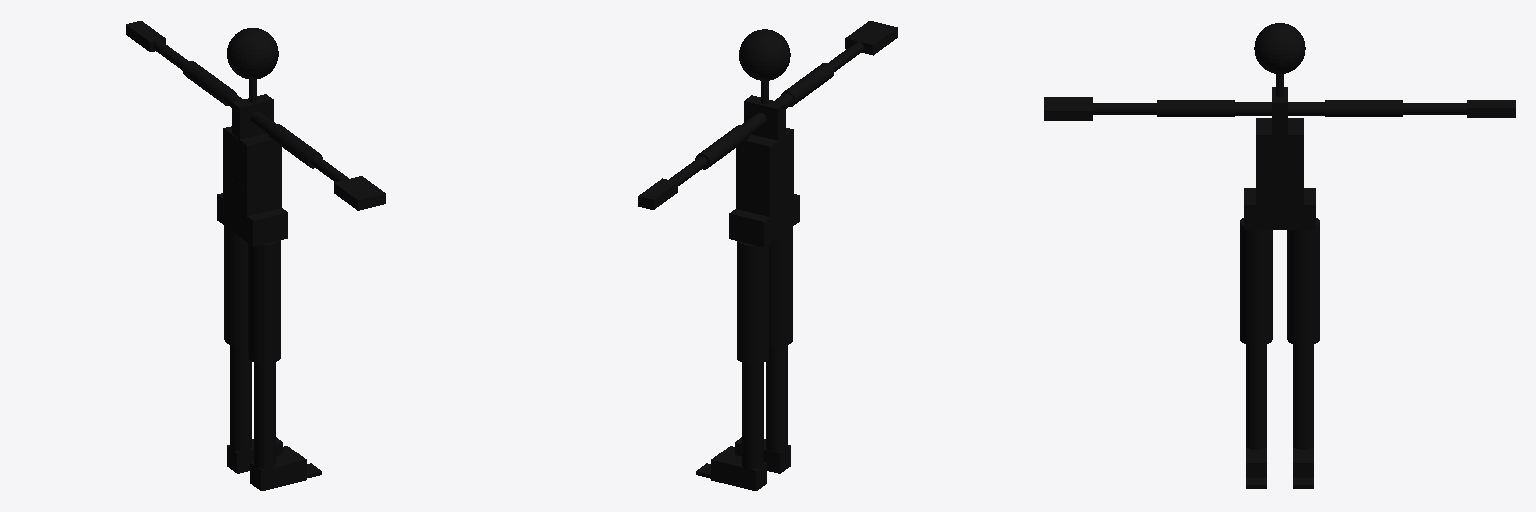
--- What the picture shows (computed from the rendered views, not written in the file) ---
Views: 3 orthographic renders of the robot side by side, from view 1: azimuth 30°, elevation 25°; view 2: azimuth 150°, elevation 25°; view 3: azimuth 270°, elevation 25°.
Model XSensStyleModel_template with 51 links and 50 joints (48 revolute, 2 fixed), rooted at Pelvis, posed every joint at zero.
Visible links, largest first — view 1: RightUpperLeg, LeftUpperLeg, RightLowerLeg, LeftLowerLeg, Head, Pelvis, T12, L5, RightFoot, L3, T8, RightHand (+4 smaller); view 2: LeftUpperLeg, RightUpperLeg, LeftLowerLeg, RightLowerLeg, Head, Pelvis, T12, L5, LeftFoot, L3, T8, RightHand (+4 smaller); view 3: RightUpperLeg, LeftUpperLeg, Pelvis, RightLowerLeg, LeftLowerLeg, Head, T12, RightUpperArm, LeftUpperArm, L5, RightHand, L3 (+6 smaller).
Link boxes in pixels (bbox=[...]): RightUpperLeg: bbox=[248, 240, 280, 363]; LeftUpperLeg: bbox=[224, 226, 247, 345]; RightLowerLeg: bbox=[254, 362, 275, 468]; LeftLowerLeg: bbox=[230, 345, 251, 451]; Head: bbox=[227, 28, 278, 79]; Pelvis: bbox=[217, 193, 287, 246]; T12: bbox=[223, 126, 281, 167]; L5: bbox=[223, 174, 281, 215]; RightFoot: bbox=[250, 452, 306, 490]; L3: bbox=[223, 151, 281, 190]; T8: bbox=[232, 94, 273, 139]; RightHand: bbox=[334, 176, 385, 210]; LeftUpperLeg: bbox=[737, 241, 768, 363]; RightUpperLeg: bbox=[769, 227, 792, 346]; LeftLowerLeg: bbox=[742, 363, 763, 468]; RightLowerLeg: bbox=[766, 345, 787, 451]; Head: bbox=[739, 29, 790, 80]; Pelvis: bbox=[729, 194, 799, 246]; T12: bbox=[736, 128, 793, 168]; L5: bbox=[736, 175, 793, 216]; LeftFoot: bbox=[711, 452, 766, 490]; L3: bbox=[736, 153, 793, 191]; T8: bbox=[744, 95, 785, 140]; RightHand: bbox=[845, 21, 897, 55]; RightUpperLeg: bbox=[1240, 218, 1272, 345]; LeftUpperLeg: bbox=[1287, 218, 1319, 345]; Pelvis: bbox=[1244, 188, 1315, 229]; RightLowerLeg: bbox=[1246, 345, 1266, 449]; LeftLowerLeg: bbox=[1293, 345, 1313, 449]; Head: bbox=[1254, 23, 1305, 73]; T12: bbox=[1256, 118, 1303, 156]; RightUpperArm: bbox=[1157, 100, 1234, 116]; LeftUpperArm: bbox=[1325, 100, 1402, 116]; L5: bbox=[1256, 180, 1303, 204]; RightHand: bbox=[1044, 97, 1092, 120]; L3: bbox=[1256, 157, 1303, 179].
Bounding box of the posed robot: 0.2938 × 1.63 × 1.69 m (x, y, z).
Geometry: primitives only (box / cylinder / sphere), no mesh files.

URDF robot description (XSensStyleModel_template):
<!--URDF MODEL 48 DoFs-->
<robot name="XSensStyleModel_template">
    <material name="color">
        <color rgba="0.1 0.1 0.1 1" />
    </material>
    <!--To open this model with Gazebo replace the null masses, inertias and dimensions of the 'fake links f1 and f2'-->
    <!--LINKS-->
    <!--Link base (1)-->
    <link name="Pelvis">
        <inertial>
            <mass value="4.976" />
            COM origin wrt pHipOrigin
            <origin xyz="0           0    0.049743" rpy="0 0 0" />
            <inertia ixx="0.029678" iyy="0.011854" izz="0.033653" ixy="0" ixz="0" iyz="0" />
        </inertial>
        <visual>
            <!--box origin wrt pHipOrigin-->
            <origin xyz="0           0    0.049743" rpy="0 0 0" />
            <geometry>
                <box size="0.13815     0.24914    0.097469" />
            </geometry>
            <material name="color" />
        </visual>
        <collision>
            <!--box origin wrt pHipOrigin-->
            <origin xyz="0           0    0.049743" rpy="0 0 0" />
            <geometry>
                <box size="0.13815     0.24914    0.097469" />
            </geometry>
        </collision>
    </link>
    <!--Chain from (2) to (7)-->
    <link name="L5_f1">
        <inertial>
            <mass value="0.1" />
            <origin xyz="0 0 0" rpy="0 0 0" />
            <inertia ixx="0.2" iyy="0.2" izz="0.2" ixy="0" ixz="0" iyz="0" />
        </inertial>
    </link>
    <link name="L5">
        <inertial>
            <mass value="6.3444" />
            <!--COM origin wrt jL5S1-->
            <origin xyz="0           0    0.047552" rpy="0 0 0" />
            <inertia ixx="0.018868" iyy="0.014872" izz="0.024177" ixy="0" ixz="0" iyz="0" />
        </inertial>
        <visual>
            <!--box origin origin wrt jL5S1-->
            <origin xyz="0           0    0.047552" rpy="0 0 0" />
            <geometry>
                <box size="0.13815     0.16323    0.095104" />
            </geometry>
            <material name="color" />
        </visual>
        <collision>
            <!--box origin origin wrt jL5S1-->
            <origin xyz="0           0    0.047552" rpy="0 0 0" />
            <geometry>
                <box size="0.13815     0.16323    0.095104" />
            </geometry>
        </collision>
    </link>
    <link name="L3_f1">
        <inertial>
            <mass value="0.1" />
            <origin xyz="0 0 0" rpy="0 0 0" />
            <inertia ixx="0.2" iyy="0.2" izz="0.2" ixy="0" ixz="0" iyz="0" />
        </inertial>
    </link>
    <link name="L3">
        <inertial>
            <mass value="6.3444" />
            <!--COM origin wrt jL4L3-->
            <origin xyz="0           0    0.042958" rpy="0 0 0" />
            <inertia ixx="0.017989" iyy="0.013993" izz="0.024177" ixy="0" ixz="0" iyz="0" />
        </inertial>
        <visual>
            <!--box origin origin wrt jL4L3-->
            <origin xyz="0           0    0.042958" rpy="0 0 0" />
            <geometry>
                <box size="0.13815     0.16323    0.085916" />
            </geometry>
            <material name="color" />
        </visual>
        <collision>
            <!--box origin origin wrt jL4L3-->
            <origin xyz="0           0    0.042958" rpy="0 0 0" />
            <geometry>
                <box size="0.13815     0.16323    0.085916" />
            </geometry>
        </collision>
    </link>
    <link name="T12_f1">
        <inertial>
            <mass value="0.1" />
            <origin xyz="0 0 0" rpy="0 0 0" />
            <inertia ixx="0.2" iyy="0.2" izz="0.2" ixy="0" ixz="0" iyz="0" />
        </inertial>
    </link>
    <link name="T12">
        <inertial>
            <mass value="6.3444" />
            <!--COM origin wrt jL1T12-->
            <origin xyz="0           0    0.042958" rpy="0 0 0" />
            <inertia ixx="0.017989" iyy="0.013993" izz="0.024177" ixy="0" ixz="0" iyz="0" />
        </inertial>
        <visual>
            <!--box origin origin wrt jL1T12-->
            <origin xyz="0           0    0.042958" rpy="0 0 0" />
            <geometry>
                <box size="0.13815     0.16323    0.085916" />
            </geometry>
            <material name="color" />
        </visual>
        <collision>
            <!--box origin origin wrt jL1T12-->
            <origin xyz="0           0    0.042958" rpy="0 0 0" />
            <geometry>
                <box size="0.13815     0.16323    0.085916" />
            </geometry>
        </collision>
    </link>
    <link name="T8_f1">
        <inertial>
            <mass value="0.1" />
            <origin xyz="0 0 0" rpy="0 0 0" />
            <inertia ixx="0.2" iyy="0.2" izz="0.2" ixy="0" ixz="0" iyz="0" />
        </inertial>
    </link>
    <link name="T8_f2">
        <inertial>
            <mass value="0.1" />
            <origin xyz="0 0 0" rpy="0 0 0" />
            <inertia ixx="0.2" iyy="0.2" izz="0.2" ixy="0" ixz="0" iyz="0" />
        </inertial>
    </link>
    <link name="T8">
        <inertial>
            <mass value="2.488" />
            <!--COM origin wrt jT9T8-->
            <origin xyz="0           0    0.059874" rpy="0 0 0" />
            <inertia ixx="0.0035473" iyy="0.0067278" izz="0.0043289" ixy="0" ixz="0" iyz="0" />
        </inertial>
        <visual>
            <!--box origin wrt jT9T8-->
            <origin xyz="0           0    0.059874" rpy="0 0 0" />
            <geometry>
                <box size="0.13457    0.052626     0.11975" />
            </geometry>
            <material name="color" />
        </visual>
        <collision>
            <!--box origin wrt jT9T8-->
            <origin xyz="0           0    0.059874" rpy="0 0 0" />
            <geometry>
                <box size="0.13457    0.052626     0.11975" />
            </geometry>
        </collision>
    </link>
    <link name="Neck_f1">
        <inertial>
            <mass value="0.1" />
            <origin xyz="0 0 0" rpy="0 0 0" />
            <inertia ixx="0.2" iyy="0.2" izz="0.2" ixy="0" ixz="0" iyz="0" />
        </inertial>
    </link>
    <link name="Neck_f2">
        <inertial>
            <mass value="0.1" />
            <origin xyz="0 0 0" rpy="0 0 0" />
            <inertia ixx="0.2" iyy="0.2" izz="0.2" ixy="0" ixz="0" iyz="0" />
        </inertial>
    </link>
    <link name="Neck">
        <inertial>
            <mass value="0.7464" />
            <!--COM origin wrt jT1C7-->
            <origin xyz="0           0    0.044626" rpy="0 0 0" />
            <inertia ixx="0.0006461" iyy="0.0006461" izz="0.00030124" ixy="0" ixz="0" iyz="0" />
        </inertial>
        <visual>
            <!--box origin wrt jT1C7-->
            <origin xyz="0           0    0.044626" rpy="0 0 0" />
            <geometry>
                <cylinder length="0.089252" radius="0.014205" />
            </geometry>
            <material name="color" />
        </visual>
        <collision>
            <!--box origin wrt jT1C7-->
            <origin xyz="0           0    0.044626" rpy="0 0 0" />
            <geometry>
                <cylinder length="0.089252" radius="0.014205" />
            </geometry>
        </collision>
    </link>
    <link name="Head_f1">
        <inertial>
            <mass value="0.1" />
            <origin xyz="0 0 0" rpy="0 0 0" />
            <inertia ixx="0.2" iyy="0.2" izz="0.2" ixy="0" ixz="0" iyz="0" />
        </inertial>
    </link>
    <link name="Head">
        <inertial>
            <mass value="2.2392" />
            <!--COM origin wrt jC1Head-->
            <origin xyz="0           0    0.089005" rpy="0 0 0" />
            <inertia ixx="0.0070955" iyy="0.0070955" izz="0.0070955" ixy="0" ixz="0" iyz="0" />
        </inertial>
        <visual>
            <!--boc origin wrt jC1Head-->
            <origin xyz="0           0    0.089005" rpy="0 0 0" />
            <geometry>
                <sphere radius="0.089005" />
            </geometry>
            <material name="color" />
        </visual>
        <collision>
            <!--box origin wrt jC1Head-->
            <origin xyz="0           0    0.089005" rpy="0 0 0" />
            <geometry>
                <sphere radius="0.089005" />
            </geometry>
        </collision>
    </link>
    <!--Chain from (8) to (11)-->
    <link name="RightShoulder">
        <inertial>
            <mass value="1.9282" />
            <!--COM origin wrt jRightC7Shoulder-->
            <origin xyz="0   -0.065233           0" rpy="0 0 0" />
            <inertia ixx="0.0030029" iyy="0.00053578" izz="0.0030029" ixy="0" ixz="0" iyz="0" />
        </inertial>
        <visual>
            <!--box origin wrt jRightC7Shoulder. RPY rotated of pi/2.-->
            <origin xyz="0   -0.065233           0" rpy="1.5708 0 0" />
            <geometry>
                <cylinder length="0.13047" radius="0.023574" />
            </geometry>
            <material name="color" />
        </visual>
        <collision>
            <!--box origin wrt jRightC7Shoulder. RPY rotated of pi/2.-->
            <origin xyz="0   -0.065233           0" rpy="1.5708 0 0" />
            <geometry>
                <cylinder length="0.13047" radius="0.023574" />
            </geometry>
        </collision>
    </link>
    <link name="RightUpperArm_f1">
        <inertial>
            <mass value="0.1" />
            <origin xyz="0 0 0" rpy="0 0 0" />
            <inertia ixx="0.2" iyy="0.2" izz="0.2" ixy="0" ixz="0" iyz="0" />
        </inertial>
    </link>
    <link name="RightUpperArm_f2">
        <inertial>
            <mass value="0.1" />
            <origin xyz="0 0 0" rpy="0 0 0" />
            <inertia ixx="0.2" iyy="0.2" izz="0.2" ixy="0" ixz="0" iyz="0" />
        </inertial>
    </link>
    <link name="RightUpperArm">
        <inertial>
            <mass value="1.866" />
            <!--COM origin wrt jRightShoulder-->
            <origin xyz="0    -0.13497           0" rpy="0 0 0" />
            <inertia ixx="0.011736" iyy="0.00080917" izz="0.011736" ixy="0" ixz="0" iyz="0" />
        </inertial>
        <visual>
            <!--box origin wrt jRightShoulder. RPY rotated of pi/2.-->
            <origin xyz="0    -0.13497           0" rpy="1.5708 0 0" />
            <geometry>
                <cylinder length="0.26994" radius="0.029449" />
            </geometry>
            <material name="color" />
        </visual>
        <collision>
            <!--box origin wrt jRightShoulder. RPY rotated of pi/2.-->
            <origin xyz="0    -0.13497           0" rpy="1.5708 0 0" />
            <geometry>
                <cylinder length="0.26994" radius="0.029449" />
            </geometry>
        </collision>
    </link>
    <link name="RightForeArm_f1">
        <inertial>
            <mass value="0.1" />
            <origin xyz="0 0 0" rpy="0 0 0" />
            <inertia ixx="0.2" iyy="0.2" izz="0.2" ixy="0" ixz="0" iyz="0" />
        </inertial>
    </link>
    <link name="RightForeArm">
        <inertial>
            <mass value="1.244" />
            <!--COM origin wrt jRightElbow-->
            <origin xyz="0    -0.11124           0" rpy="0 0 0" />
            <inertia ixx="0.0052508" iyy="0.00023975" izz="0.0052508" ixy="0" ixz="0" iyz="0" />
        </inertial>
        <visual>
            <!--box origin wrt jRightElbow. RPY rotated of pi/2.-->
            <origin xyz="0    -0.11124           0" rpy="1.5708 0 0" />
            <geometry>
                <cylinder length="0.22247" radius="0.019633" />
            </geometry>
            <material name="color" />
        </visual>
        <collision>
            <!--box origin wrt jRightElbow. RPY rotated of pi/2.-->
            <origin xyz="0    -0.11124           0" rpy="1.5708 0 0" />
            <geometry>
                <cylinder length="0.22247" radius="0.019633" />
            </geometry>
        </collision>
    </link>
    <link name="RightHand_f1">
        <inertial>
            <mass value="0.1" />
            <origin xyz="0 0 0" rpy="0 0 0" />
            <inertia ixx="0.2" iyy="0.2" izz="0.2" ixy="0" ixz="0" iyz="0" />
        </inertial>
    </link>
    <link name="RightHand">
        <inertial>
            <mass value="0.3732" />
            <!--COM origin wrt jRightWrist-->
            <origin xyz="0   -0.083588           0" rpy="0 0 0" />
            <inertia ixx="0.00091713" iyy="0.00043425" izz="0.0012555" ixy="0" ixz="0" iyz="0" />
        </inertial>
        <visual>
            <!--box origin wrt jRightWrist-->
            <origin xyz="0   -0.083588           0" rpy="0 0 0" />
            <geometry>
                <box size="0.11145     0.16718    0.039266" />
            </geometry>
            <material name="color" />
        </visual>
        <collision>
            <!--box origin wrt jRightWrist-->
            <origin xyz="0   -0.083588           0" rpy="0 0 0" />
            <geometry>
                <box size="0.11145     0.16718    0.039266" />
            </geometry>
        </collision>
    </link>
    <link name="RightHandCOM">
        <inertial>
            <mass value="0.00001" />
            <origin xyz="0 0 0" rpy="0 0 0" />
            <inertia ixx="0.2" iyy="0.2" izz="0.2" ixy="0" ixz="0" iyz="0" />
        </inertial>
        <visual>
            <!--box origin wrt jRightWrist-->
            <origin xyz="0   0           0" rpy="0 0 0" />
            <geometry>
                <box size="0     0    0" />
            </geometry>
            <material name="color" />
        </visual>
    </link>
    <!--Chain from (12) to (15)-->
    <link name="LeftShoulder">
        <inertial>
            <mass value="1.9282" />
            <!--COM origin wrt jLeftC7Shoulder-->
            <origin xyz="0    0.065233           0" rpy="0 0 0" />
            <inertia ixx="0.0030029" iyy="0.00053578" izz="0.0030029" ixy="0" ixz="0" iyz="0" />
        </inertial>
        <visual>
            <!--box origin wrt jLeftC7Shoulder. RPY rotated of pi/2.-->
            <origin xyz="0    0.065233           0" rpy="1.5708 0 0" />
            <geometry>
                <cylinder length="0.13047" radius="0.023574" />
            </geometry>
            <material name="color" />
        </visual>
        <collision>
            <!--box origin wrt jLeftC7Shoulder. RPY rotated of pi/2.-->
            <origin xyz="0    0.065233           0" rpy="1.5708 0 0" />
            <geometry>
                <cylinder length="0.13047" radius="0.023574" />
            </geometry>
        </collision>
    </link>
    <link name="LeftUpperArm_f1">
        <inertial>
            <mass value="0.1" />
            <origin xyz="0 0 0" rpy="0 0 0" />
            <inertia ixx="0.2" iyy="0.2" izz="0.2" ixy="0" ixz="0" iyz="0" />
        </inertial>
    </link>
    <link name="LeftUpperArm_f2">
        <inertial>
            <mass value="0.1" />
            <origin xyz="0 0 0" rpy="0 0 0" />
            <inertia ixx="0.2" iyy="0.2" izz="0.2" ixy="0" ixz="0" iyz="0" />
        </inertial>
    </link>
    <link name="LeftUpperArm">
        <inertial>
            <mass value="1.866" />
            <!--COM origin wrt jLeftShoulder-->
            <origin xyz="0     0.13497           0" rpy="0 0 0" />
            <inertia ixx="0.011736" iyy="0.00080917" izz="0.011736" ixy="0" ixz="0" iyz="0" />
        </inertial>
        <visual>
            <!--box origin wrt jLeftShoulder. RPY rotated of pi/2.-->
            <origin xyz="0     0.13497           0" rpy="1.5708 0 0" />
            <geometry>
                <cylinder length="0.26994" radius="0.029449" />
            </geometry>
            <material name="color" />
        </visual>
        <collision>
            <!--box origin wrt jLeftShoulder. RPY rotated of pi/2.-->
            <origin xyz="0     0.13497           0" rpy="1.5708 0 0" />
            <geometry>
                <cylinder length="0.26994" radius="0.029449" />
            </geometry>
        </collision>
    </link>
    <link name="LeftForeArm_f1">
        <inertial>
            <mass value="0.1" />
            <origin xyz="0 0 0" rpy="0 0 0" />
            <inertia ixx="0.2" iyy="0.2" izz="0.2" ixy="0" ixz="0" iyz="0" />
        </inertial>
    </link>
    <link name="LeftForeArm">
        <inertial>
            <mass value="1.244" />
            <!--COM origin wrt jLeftElbow-->
            <origin xyz="0     0.11124           0" rpy="0 0 0" />
            <inertia ixx="0.0052508" iyy="0.00023975" izz="0.0052508" ixy="0" ixz="0" iyz="0" />
        </inertial>
        <visual>
            <!--box origin wrt jLeftElbow. RPY rotated of pi/2.-->
            <origin xyz="0     0.11124           0" rpy="1.5708 0 0" />
            <geometry>
                <cylinder length="0.22247" radius="0.019633" />
            </geometry>
            <material name="color" />
        </visual>
        <collision>
            <!--box origin wrt jLeftElbow. RPY rotated of pi/2.-->
            <origin xyz="0     0.11124           0" rpy="1.5708 0 0" />
            <geometry>
                <cylinder length="0.22247" radius="0.019633" />
            </geometry>
        </collision>
    </link>
    <link name="LeftHand_f1">
        <inertial>
            <mass value="0.1" />
            <origin xyz="0 0 0" rpy="0 0 0" />
            <inertia ixx="0.2" iyy="0.2" izz="0.2" ixy="0" ixz="0" iyz="0" />
        </inertial>
    </link>
    <link name="LeftHand">
        <inertial>
            <mass value="0.3732" />
            <!--COM origin wrt jLeftWrist-->
            <origin xyz="0    0.083588           0" rpy="0 0 0" />
            <inertia ixx="0.00091713" iyy="0.00043425" izz="0.0012555" ixy="0" ixz="0" iyz="0" />
        </inertial>
        <visual>
            <!--COM origin wrt jLeftWrist-->
            <origin xyz="0    0.083588           0" rpy="0 0 0" />
            <geometry>
                <!-- <box size="0.11145     0.16718    0.039266" /> -->
                <box size="0.06145     0.16718    0.039266" />
            </geometry>
            <material name="color" />
        </visual>
        <collision>
            <!--COM origin wrt jLeftWrist-->
            <origin xyz="0    0.083588           0" rpy="0 0 0" />
            <geometry>
                <!-- <box size="0.11145     0.16718    0.039266" /> -->
                <box size="0.06145     0.16718    0.039266" />
            </geometry>
        </collision>
    </link>
    <link name="LeftHandCOM">
        <inertial>
            <mass value="0.00001" />
            <origin xyz="0 0 0" rpy="0 0 0" />
            <inertia ixx="0.2" iyy="0.2" izz="0.2" ixy="0" ixz="0" iyz="0" />
        </inertial>
        <visual>
            <!--COM origin wrt jLeftWrist-->
            <origin xyz="0    0           0" rpy="0 0 0" />
            <geometry>
                <box size="0     0    0" />
            </geometry>
            <material name="color" />
        </visual>
    </link>
    <!--Chain from (16) to (19)-->
    <link name="RightUpperLeg_f1">
        <inertial>
            <mass value="0.1" />
            <origin xyz="0 0 0" rpy="0 0 0" />
            <inertia ixx="0.2" iyy="0.2" izz="0.2" ixy="0" ixz="0" iyz="0" />
        </inertial>
    </link>
    <link name="RightUpperLeg_f2">
        <inertial>
            <mass value="0.1" />
            <origin xyz="0 0 0" rpy="0 0 0" />
            <inertia ixx="0.2" iyy="0.2" izz="0.2" ixy="0" ixz="0" iyz="0" />
        </inertial>
    </link>
    <link name="RightUpperLeg">
        <inertial>
            <mass value="7.775" />
            <!--COM origin wrt jRightHip-->
            <origin xyz="0           0    -0.22449" rpy="0 0 0" />
            <inertia ixx="0.13681" iyy="0.13681" izz="0.01241" ixy="0" ixz="0" iyz="0" />
        </inertial>
        <visual>
            <!--box origin wrt jRightHip-->
            <origin xyz="0           0    -0.22449" rpy="0 0 0" />
            <geometry>
                <cylinder length="0.44898" radius="0.0565" />
            </geometry>
            <material name="color" />
        </visual>
        <collision>
            <!--box origin wrt jRightHip-->
            <origin xyz="0           0    -0.22449" rpy="0 0 0" />
            <geometry>
                <cylinder length="0.44898" radius="0.0565" />
            </geometry>
        </collision>
    </link>
    <link name="RightLowerLeg_f1">
        <inertial>
            <mass value="0.1" />
            <origin xyz="0 0 0" rpy="0 0 0" />
            <inertia ixx="0.2" iyy="0.2" izz="0.2" ixy="0" ixz="0" iyz="0" />
        </inertial>
    </link>
    <link name="RightLowerLeg">
        <inertial>
            <mass value="2.2703" />
            <!--COM origin wrt jRightKnee-->
            <origin xyz="0           0    -0.20304" rpy="0 0 0" />
            <inertia ixx="0.031992" iyy="0.031992" izz="0.0015867" ixy="0" ixz="0" iyz="0" />
        </inertial>
        <visual>
            <!--box origin wrt jRightKnee-->
            <origin xyz="0           0    -0.20304" rpy="0 0 0" />
            <geometry>
                <cylinder length="0.40608" radius="0.037388" />
            </geometry>
            <material name="color" />
        </visual>
        <collision>
            <!--box origin wrt jRightKnee-->
            <origin xyz="0           0    -0.20304" rpy="0 0 0" />
            <geometry>
                <cylinder length="0.40608" radius="0.037388" />
            </geometry>
        </collision>
    </link>
    <link name="RightFoot_f1">
        <inertial>
            <mass value="0.1" />
            <origin xyz="0 0 0" rpy="0 0 0" />
            <inertia ixx="0.2" iyy="0.2" izz="0.2" ixy="0" ixz="0" iyz="0" />
        </inertial>
    </link>
    <link name="RightFoot_f2">
        <inertial>
            <mass value="0.1" />
            <origin xyz="0 0 0" rpy="0 0 0" />
            <inertia ixx="0.2" iyy="0.2" izz="0.2" ixy="0" ixz="0" iyz="0" />
        </inertial>
    </link>
    <link name="RightFoot">
        <inertial>
            <mass value="0.8086" />
            <!--COM origin wrt jRightAnkle-->
            <origin xyz="0.054652           0   -0.039254" rpy="0 0 0" />
            <inertia ixx="0.00079209" iyy="0.0025944" izz="0.0025558" ixy="0" ixz="0" iyz="0" />
        </inertial>
        <visual>
            <!--box origin wrt jRightAnkle-->
            <origin xyz="0.054652           0   -0.039254" rpy="0 0 0" />
            <geometry>
                <box size="0.17983    0.074775    0.078509" />
            </geometry>
            <material name="color" />
        </visual>
        <collision>
            <!--box origin wrt jRightAnkle-->
            <origin xyz="0.054652           0   -0.039254" rpy="0 0 0" />
            <geometry>
                <box size="0.17983    0.074775    0.078509" />
            </geometry>
        </collision>
    </link>
    <link name="RightToe">
        <inertial>
            <mass value="0.0933" />
            <!--COM origin wrt jRightBallFoot-->
            <origin xyz="0.030086           0           0" rpy="0 0 0" />
            <inertia ixx="4.5038e-05" iyy="2.9717e-05" izz="7.1624e-05" ixy="0" ixz="0" iyz="0" />
        </inertial>
        <visual>
            <!--box origin wrt jRightBallFoot-->
            <origin xyz="0.030086           0           0" rpy="0 0 0" />
            <geometry>
                <box size="0.060173    0.074775    0.014191" />
            </geometry>
            <material name="color" />
        </visual>
        <collision>
            <!--box origin wrt jRightBallFoot-->
            <origin xyz="0.030086           0           0" rpy="0 0 0" />
            <geometry>
                <box size="0.060173    0.074775    0.014191" />
            </geometry>
        </collision>
    </link>
    <!--Chain from (20) to (23)-->
    <link name="LeftUpperLeg_f1">
        <inertial>
            <mass value="0.1" />
            <origin xyz="0 0 0" rpy="0 0 0" />
            <inertia ixx="0.2" iyy="0.2" izz="0.2" ixy="0" ixz="0" iyz="0" />
        </inertial>
    </link>
    <link name="LeftUpperLeg_f2">
        <inertial>
            <mass value="0.1" />
            <origin xyz="0 0 0" rpy="0 0 0" />
            <inertia ixx="0.2" iyy="0.2" izz="0.2" ixy="0" ixz="0" iyz="0" />
        </inertial>
    </link>
    <link name="LeftUpperLeg">
        <inertial>
            <mass value="7.775" />
            <!--COM origin wrt jLeftHip-->
            <origin xyz="0           0    -0.22449" rpy="0 0 0" />
            <inertia ixx="0.13681" iyy="0.13681" izz="0.01241" ixy="0" ixz="0" iyz="0" />
        </inertial>
        <visual>
            <!--box origin wrt jLeftHip-->
            <origin xyz="0           0    -0.22449" rpy="0 0 0" />
            <geometry>
                <cylinder length="0.44898" radius="0.0565" />
            </geometry>
            <material name="color" />
        </visual>
        <collision>
            <!--box origin wrt jLeftHip-->
            <origin xyz="0           0    -0.22449" rpy="0 0 0" />
            <geometry>
                <cylinder length="0.44898" radius="0.0565" />
            </geometry>
        </collision>
    </link>
    <link name="LeftLowerLeg_f1">
        <inertial>
            <mass value="0.1" />
            <origin xyz="0 0 0" rpy="0 0 0" />
            <inertia ixx="0.2" iyy="0.2" izz="0.2" ixy="0" ixz="0" iyz="0" />
        </inertial>
    </link>
    <link name="LeftLowerLeg">
        <inertial>
            <mass value="2.2703" />
            <!--COM origin wrt jLeftKnee-->
            <origin xyz="0           0    -0.20304" rpy="0 0 0" />
            <inertia ixx="0.031992" iyy="0.031992" izz="0.0015867" ixy="0" ixz="0" iyz="0" />
        </inertial>
        <visual>
            <!--box origin wrt jLeftKnee-->
            <origin xyz="0           0    -0.20304" rpy="0 0 0" />
            <geometry>
                <cylinder length="0.40608" radius="0.037388" />
            </geometry>
            <material name="color" />
        </visual>
        <collision>
            <!--box origin wrt jLeftKnee-->
            <origin xyz="0           0    -0.20304" rpy="0 0 0" />
            <geometry>
                <cylinder length="0.40608" radius="0.037388" />
            </geometry>
        </collision>
    </link>
    <link name="LeftFoot_f1">
        <inertial>
            <mass value="0.1" />
            <origin xyz="0 0 0" rpy="0 0 0" />
            <inertia ixx="0.2" iyy="0.2" izz="0.2" ixy="0" ixz="0" iyz="0" />
        </inertial>
    </link>
    <link name="LeftFoot_f2">
        <inertial>
            <mass value="0.1" />
            <origin xyz="0 0 0" rpy="0 0 0" />
            <inertia ixx="0.2" iyy="0.2" izz="0.2" ixy="0" ixz="0" iyz="0" />
        </inertial>
    </link>
    <link name="LeftFoot">
        <inertial>
            <mass value="0.8086" />
            <!--COM origin wrt jLeftAnkle-->
            <origin xyz="0.054652           0   -0.039254" rpy="0 0 0" />
            <inertia ixx="0.00079209" iyy="0.0025944" izz="0.0025558" ixy="0" ixz="0" iyz="0" />
        </inertial>
        <visual>
            <!--box origin wrt jLeftAnkle-->
            <origin xyz="0.054652           0   -0.039254" rpy="0 0 0" />
            <geometry>
                <box size="0.17983    0.074775    0.078509" />
            </geometry>
            <material name="color" />
        </visual>
        <collision>
            <!--box origin wrt jLeftAnkle-->
            <origin xyz="0.054652           0   -0.039254" rpy="0 0 0" />
            <geometry>
                <box size="0.17983    0.074775    0.078509" />
            </geometry>
        </collision>
    </link>
    <link name="LeftToe">
        <inertial>
            <mass value="0.0933" />
            <!--COM origin wrt jLeftBallFoot-->
            <origin xyz="0.030086           0           0" rpy="0 0 0" />
            <inertia ixx="4.5038e-05" iyy="2.9717e-05" izz="7.1624e-05" ixy="0" ixz="0" iyz="0" />
        </inertial>
        <visual>
            <!--box origin wrt jLeftBallFoot-->
            <origin xyz="0.030086           0           0" rpy="0 0 0" />
            <geometry>
                <box size="0.060173    0.074775    0.014191" />
            </geometry>
            <material name="color" />
        </visual>
        <collision>
            <!--box origin wrt jLeftBallFoot-->
            <origin xyz="0.030086           0           0" rpy="0 0 0" />
            <geometry>
                <box size="0.060173    0.074775    0.014191" />
            </geometry>
        </collision>
    </link>
    <!--JOINTS-->
    <!--Chain from (2) to (7)-->
    <joint name="jL5S1_rotx" type="revolute">
        <origin xyz="-0.000206           0    0.098478" rpy="0 0 0" />
        <parent link="Pelvis" />
        <child link="L5_f1" />
        <dynamics damping="0.1" friction="0.0" />
        <limit effort="30" velocity="1.0" lower="-0.610865" upper="0.610865" />
        <axis xyz="1 0 0" />
    </joint>
    <joint name="jL5S1_roty" type="revolute">
        <origin xyz="0 0 0" rpy="0 0 0" />
        <parent link="L5_f1" />
        <child link="L5" />
        <dynamics damping="0.1" friction="0.0" />
        <limit effort="30" velocity="1.0" lower="-0.523599" upper="1.309" />
        <axis xyz="0 1 0" />
    </joint>
    <joint name="jL4L3_rotx" type="revolute">
        <origin xyz="0.000374           0    0.095104" rpy="0 0 0" />
        <parent link="L5" />
        <child link="L3_f1" />
        <dynamics damping="0.1" friction="0.0" />
        <limit effort="30" velocity="1.0" lower="-0.610865" upper="0.610865" />
        <axis xyz="1 0 0" />
    </joint>
    <joint name="jL4L3_roty" type="revolute">
        <origin xyz="0 0 0" rpy="0 0 0" />
        <parent link="L3_f1" />
        <child link="L3" />
        <dynamics damping="0.1" friction="0.0" />
        <limit effort="30" velocity="1.0" lower="-0.523599" upper="1.309" />
        <axis xyz="0 1 0" />
    </joint>
    <joint name="jL1T12_rotx" type="revolute">
        <origin xyz="0           0    0.085916" rpy="0 0 0" />
        <parent link="L3" />
        <child link="T12_f1" />
        <dynamics damping="0.1" friction="0.0" />
        <limit effort="30" velocity="1.0" lower="-0.610865" upper="0.610865" />
        <axis xyz="1 0 0" />
    </joint>
    <joint name="jL1T12_roty" type="revolute">
        <origin xyz="0 0 0" rpy="0 0 0" />
        <parent link="T12_f1" />
        <child link="T12" />
        <dynamics damping="0.1" friction="0.0" />
        <limit effort="30" velocity="1.0" lower="-0.523599" upper="1.309" />
        <axis xyz="0 1 0" />
    </joint>
    <joint name="jT9T8_rotx" type="revolute">
        <origin xyz="0           0    0.085916" rpy="0 0 0" />
        <parent link="T12" />
        <child link="T8_f1" />
        <dynamics damping="0.1" friction="0.0" />
        <limit effort="30" velocity="1.0" lower="-0.349066" upper="0.349066" />
        <axis xyz="1 0 0" />
    </joint>
    <joint name="jT9T8_roty" type="revolute">
        <origin xyz="0 0 0" rpy="0 0 0" />
        <parent link="T8_f1" />
        <child link="T8_f2" />
        <dynamics damping="0.1" friction="0.0" />
        <limit effort="30" velocity="1.0" lower="-0.261799" upper="0.698132" />
        <axis xyz="0 1 0" />
    </joint>
    <joint name="jT9T8_rotz" type="revolute">
        <origin xyz="0 0 0" rpy="0 0 0" />
        <parent link="T8_f2" />
        <child link="T8" />
        <dynamics damping="0.1" friction="0.0" />
        <limit effort="30" velocity="1.0" lower="-0.610865" upper="0.610865" />
        <axis xyz="0 0 1" />
    </joint>
    <joint name="jT1C7_rotx" type="revolute">
        <origin xyz="0           0     0.11975" rpy="0 0 0" />
        <parent link="T8" />
        <child link="Neck_f1" />
        <dynamics damping="0.1" friction="0.0" />
        <limit effort="30" velocity="1.0" lower="-0.610865" upper="0.610865" />
        <axis xyz="1 0 0" />
    </joint>
    <joint name="jT1C7_roty" type="revolute">
        <origin xyz="0 0 0" rpy="0 0 0" />
        <parent link="Neck_f1" />
        <child link="Neck_f2" />
        <dynamics damping="0.1" friction="0.0" />
        <limit effort="30" velocity="1.0" lower="-0.959931" upper="1.5708" />
        <axis xyz="0 1 0" />
    </joint>
    <joint name="jT1C7_rotz" type="revolute">
        <origin xyz="0 0 0" rpy="0 0 0" />
        <parent link="Neck_f2" />
        <child link="Neck" />
        <dynamics damping="0.1" friction="0.0" />
        <limit effort="30" velocity="1.0" lower="-1.22173" upper="1.22173" />
        <axis xyz="0 0 1" />
    </joint>
    <joint name="jC1Head_rotx" type="revolute">
        <origin xyz="0.000152           0    0.089252" rpy="0 0 0" />
        <parent link="Neck" />
        <child link="Head_f1" />
        <dynamics damping="0.1" friction="0.0" />
        <limit effort="30" velocity="1.0" lower="-0.610865" upper="0.610865" />
        <axis xyz="1 0 0" />
    </joint>
    <joint name="jC1Head_roty" type="revolute">
        <origin xyz="0 0 0" rpy="0 0 0" />
        <parent link="Head_f1" />
        <child link="Head" />
        <dynamics damping="0.1" friction="0.0" />
        <limit effort="30" velocity="1.0" lower="-0.436332" upper="0.174533" />
        <axis xyz="0 1 0" />
    </joint>
    <!--Chain from (8) to (11)-->
    <joint name="jRightC7Shoulder_rotx" type="revolute">
        <origin xyz="0   -0.026313    0.067052" rpy="0 0 0" />
        <parent link="T8" />
        <child link="RightShoulder" />
        <dynamics damping="0.1" friction="0.0" />
        <limit effort="30" velocity="1.0" lower="-0.785398" upper="0.0872665" />
        <axis xyz="1 0 0" />
    </joint>
    <joint name="jRightShoulder_rotx" type="revolute">
        <origin xyz="0    -0.13047           0" rpy="0 0 0" />
        <parent link="RightShoulder" />
        <child link="RightUpperArm_f1" />
        <dynamics damping="0.1" friction="0.0" />
        <limit effort="30" velocity="1.0" lower="-2.35619" upper="1.5708" />
        <axis xyz="1 0 0" />
    </joint>
    <joint name="jRightShoulder_roty" type="revolute">
        <origin xyz="0 0 0" rpy="0 0 0" />
        <parent link="RightUpperArm_f1" />
        <child link="RightUpperArm_f2" />
        <dynamics damping="0.1" friction="0.0" />
        <limit effort="30" velocity="1.0" lower="-1.5708" upper="1.5708" />
        <axis xyz="0 1 0" />
    </joint>
    <joint name="jRightShoulder_rotz" type="revolute">
        <origin xyz="0 0 0" rpy="0 0 0" />
        <parent link="RightUpperArm_f2" />
        <child link="RightUpperArm" />
        <dynamics damping="0.1" friction="0.0" />
        <limit effort="30" velocity="1.0" lower="-0.785398" upper="3.14159" />
        <axis xyz="0 0 1" />
    </joint>
    <joint name="jRightElbow_roty" type="revolute">
        <origin xyz="0    -0.26994           0" rpy="0 0 0" />
        <parent link="RightUpperArm" />
        <child link="RightForeArm_f1" />
        <dynamics damping="0.1" friction="0.0" />
        <limit effort="30" velocity="1.0" lower="-1.5708" upper="1.48353" />
        <axis xyz="0 1 0" />
    </joint>
    <joint name="jRightElbow_rotz" type="revolute">
        <origin xyz="0 0 0" rpy="0 0 0" />
        <parent link="RightForeArm_f1" />
        <child link="RightForeArm" />
        <dynamics damping="0.1" friction="0.0" />
        <limit effort="30" velocity="1.0" lower="0" upper="2.53073" />
        <axis xyz="0 0 1" />
    </joint>
    <joint name="jRightWrist_rotx" type="revolute">
        <origin xyz="7.7e-05    -0.22247           0" rpy="0 0 0" />
        <parent link="RightForeArm" />
        <child link="RightHand_f1" />
        <dynamics damping="0.1" friction="0.0" />
        <limit effort="30" velocity="1.0" lower="-0.872665" upper="1.0472" />
        <axis xyz="1 0 0" />
    </joint>
    <joint name="jRightWrist_rotz" type="revolute">
        <origin xyz="0 0 0" rpy="0 0 0" />
        <parent link="RightHand_f1" />
        <child link="RightHand" />
        <dynamics damping="0.1" friction="0.0" />
        <limit effort="30" velocity="1.0" lower="-0.523599" upper="0.349066" />
        <axis xyz="0 0 1" />
    </joint>
    <joint name="jRightHandCOM" type="fixed">
        <origin xyz="0 -0.096206 0" rpy="0 0 0" />
        <parent link="RightHand" />
        <child link="RightHandCOM" />
        <axis xyz="0 0 0" />
    </joint>
    <!--Chain from (12) to (15)-->
    <joint name="jLeftC7Shoulder_rotx" type="revolute">
        <origin xyz="0    0.026313    0.067052" rpy="0 0 0" />
        <parent link="T8" />
        <child link="LeftShoulder" />
        <dynamics damping="0.1" friction="0.0" />
        <limit effort="30" velocity="1.0" lower="-0.0872665" upper="0.785398" />
        <axis xyz="1 0 0" />
    </joint>
    <joint name="jLeftShoulder_rotx" type="revolute">
        <origin xyz="0     0.13047           0" rpy="0 0 0" />
        <parent link="LeftShoulder" />
        <child link="LeftUpperArm_f1" />
        <dynamics damping="0.1" friction="0.0" />
        <limit effort="30" velocity="1.0" lower="-1.5708" upper="2.35619" />
        <axis xyz="1 0 0" />
    </joint>
    <joint name="jLeftShoulder_roty" type="revolute">
        <origin xyz="0 0 0" rpy="0 0 0" />
        <parent link="LeftUpperArm_f1" />
        <child link="LeftUpperArm_f2" />
        <dynamics damping="0.1" friction="0.0" />
        <limit effort="30" velocity="1.0" lower="-1.5708" upper="1.5708" />
        <axis xyz="0 1 0" />
    </joint>
    <joint name="jLeftShoulder_rotz" type="revolute">
        <origin xyz="0 0 0" rpy="0 0 0" />
        <parent link="LeftUpperArm_f2" />
        <child link="LeftUpperArm" />
        <dynamics damping="0.1" friction="0.0" />
        <limit effort="30" velocity="1.0" lower="-3.14159" upper="0.785398" />
        <axis xyz="0 0 1" />
    </joint>
    <joint name="jLeftElbow_roty" type="revolute">
        <origin xyz="0     0.26994           0" rpy="0 0 0" />
        <parent link="LeftUpperArm" />
        <child link="LeftForeArm_f1" />
        <dynamics damping="0.1" friction="0.0" />
        <limit effort="30" velocity="1.0" lower="-1.5708" upper="1.48353" />
        <axis xyz="0 1 0" />
    </joint>
    <joint name="jLeftElbow_rotz" type="revolute">
        <origin xyz="0 0 0" rpy="0 0 0" />
        <parent link="LeftForeArm_f1" />
        <child link="LeftForeArm" />
        <dynamics damping="0.1" friction="0.0" />
        <limit effort="30" velocity="1.0" lower="-2.53073" upper="0" />
        <axis xyz="0 0 1" />
    </joint>
    <joint name="jLeftWrist_rotx" type="revolute">
        <origin xyz="7.7e-05     0.22247           0" rpy="0 0 0" />
        <parent link="LeftForeArm" />
        <child link="LeftHand_f1" />
        <dynamics damping="0.1" friction="0.0" />
        <limit effort="30" velocity="1.0" lower="-1.0472" upper="0.872665" />
        <axis xyz="1 0 0" />
    </joint>
    <joint name="jLeftWrist_rotz" type="revolute">
        <origin xyz="0 0 0" rpy="0 0 0" />
        <parent link="LeftHand_f1" />
        <child link="LeftHand" />
        <dynamics damping="0.1" friction="0.0" />
        <limit effort="30" velocity="1.0" lower="-0.349066" upper="0.523599" />
        <axis xyz="0 0 1" />
    </joint>
    <joint name="jLeftHandCOM" type="fixed">
        <origin xyz="0 0.096206 0" rpy="0 0 0" />
        <parent link="LeftHand" />
        <child link="LeftHandCOM" />
        <axis xyz="0 0 0" />
    </joint>
    <!--Chain from (16) to (19)-->
    <joint name="jRightHip_rotx" type="revolute">
        <origin xyz="0.000103   -0.081614    0.001009" rpy="0 0 0" />
        <parent link="Pelvis" />
        <child link="RightUpperLeg_f1" />
        <dynamics damping="0.1" friction="0.0" />
        <limit effort="30" velocity="1.0" lower="-0.785398" upper="0.523599" />
        <axis xyz="1 0 0" />
    </joint>
    <joint name="jRightHip_roty" type="revolute">
        <origin xyz="0 0 0" rpy="0 0 0" />
        <parent link="RightUpperLeg_f1" />
        <child link="RightUpperLeg_f2" />
        <dynamics damping="0.1" friction="0.0" />
        <limit effort="30" velocity="1.0" lower="-2.0944" upper="0.261799" />
        <axis xyz="0 1 0" />
    </joint>
    <joint name="jRightHip_rotz" type="revolute">
        <origin xyz="0 0 0" rpy="0 0 0" />
        <parent link="RightUpperLeg_f2" />
        <child link="RightUpperLeg" />
        <dynamics damping="0.1" friction="0.0" />
        <limit effort="30" velocity="1.0" lower="-0.785398" upper="0.785398" />
        <axis xyz="0 0 1" />
    </joint>
    <joint name="jRightKnee_roty" type="revolute">
        <origin xyz="3.6e-05           0    -0.44898" rpy="0 0 0" />
        <parent link="RightUpperLeg" />
        <child link="RightLowerLeg_f1" />
        <dynamics damping="0.1" friction="0.0" />
        <limit effort="30" velocity="1.0" lower="0" upper="2.35619" />
        <axis xyz="0 1 0" />
    </joint>
    <joint name="jRightKnee_rotz" type="revolute">
        <origin xyz="0 0 0" rpy="0 0 0" />
        <parent link="RightLowerLeg_f1" />
        <child link="RightLowerLeg" />
        <dynamics damping="0.1" friction="0.0" />
        <limit effort="30" velocity="1.0" lower="-0.698132" upper="0.523599" />
        <axis xyz="0 0 1" />
    </joint>
    <joint name="jRightAnkle_rotx" type="revolute">
        <origin xyz="0.000205           0    -0.40608" rpy="0 0 0" />
        <parent link="RightLowerLeg" />
        <child link="RightFoot_f1" />
        <dynamics damping="0.1" friction="0.0" />
        <limit effort="30" velocity="1.0" lower="-0.610865" upper="0.785398" />
        <axis xyz="1 0 0" />
    </joint>
    <joint name="jRightAnkle_roty" type="revolute">
        <origin xyz="0 0 0" rpy="0 0 0" />
        <parent link="RightFoot_f1" />
        <child link="RightFoot_f2" />
        <dynamics damping="0.1" friction="0.0" />
        <limit effort="30" velocity="1.0" lower="-0.523599" upper="0.872665" />
        <axis xyz="0 1 0" />
    </joint>
    <joint name="jRightAnkle_rotz" type="revolute">
        <origin xyz="0 0 0" rpy="0 0 0" />
        <parent link="RightFoot_f2" />
        <child link="RightFoot" />
        <dynamics damping="0.1" friction="0.0" />
        <limit effort="30" velocity="1.0" lower="-0.436332" upper="0.872665" />
        <axis xyz="0 0 1" />
    </joint>
    <joint name="jRightBallFoot_roty" type="revolute">
        <origin xyz="0.14456           0   -0.064752" rpy="0 0 0" />
        <parent link="RightFoot" />
        <child link="RightToe" />
        <dynamics damping="0.1" friction="0.0" />
        <limit effort="30" velocity="1.0" lower="-0.174533" upper="1.5708" />
        <axis xyz="0 1 0" />
    </joint>
    <!--Chain from (20) to (23)-->
    <joint name="jLeftHip_rotx" type="revolute">
        <origin xyz="0.000103    0.081614    0.001009" rpy="0 0 0" />
        <parent link="Pelvis" />
        <child link="LeftUpperLeg_f1" />
        <dynamics damping="0.1" friction="0.0" />
        <limit effort="30" velocity="1.0" lower="-0.523599" upper="0.785398" />
        <axis xyz="1 0 0" />
    </joint>
    <joint name="jLeftHip_roty" type="revolute">
        <origin xyz="0 0 0" rpy="0 0 0" />
        <parent link="LeftUpperLeg_f1" />
        <child link="LeftUpperLeg_f2" />
        <dynamics damping="0.1" friction="0.0" />
        <limit effort="30" velocity="1.0" lower="-2.0944" upper="0.261799" />
        <axis xyz="0 1 0" />
    </joint>
    <joint name="jLeftHip_rotz" type="revolute">
        <origin xyz="0 0 0" rpy="0 0 0" />
        <parent link="LeftUpperLeg_f2" />
        <child link="LeftUpperLeg" />
        <dynamics damping="0.1" friction="0.0" />
        <limit effort="30" velocity="1.0" lower="-0.785398" upper="0.785398" />
        <axis xyz="0 0 1" />
    </joint>
    <joint name="jLeftKnee_roty" type="revolute">
        <origin xyz="3.6e-05           0    -0.44898" rpy="0 0 0" />
        <parent link="LeftUpperLeg" />
        <child link="LeftLowerLeg_f1" />
        <dynamics damping="0.1" friction="0.0" />
        <limit effort="30" velocity="1.0" lower="0" upper="2.35619" />
        <axis xyz="0 1 0" />
    </joint>
    <joint name="jLeftKnee_rotz" type="revolute">
        <origin xyz="0 0 0" rpy="0 0 0" />
        <parent link="LeftLowerLeg_f1" />
        <child link="LeftLowerLeg" />
        <dynamics damping="0.1" friction="0.0" />
        <limit effort="30" velocity="1.0" lower="-0.523599" upper="0.698132" />
        <axis xyz="0 0 1" />
    </joint>
    <joint name="jLeftAnkle_rotx" type="revolute">
        <origin xyz="0.000205           0    -0.40608" rpy="0 0 0" />
        <parent link="LeftLowerLeg" />
        <child link="LeftFoot_f1" />
        <dynamics damping="0.1" friction="0.0" />
        <limit effort="30" velocity="1.0" lower="-0.785398" upper="0.610865" />
        <axis xyz="1 0 0" />
    </joint>
    <joint name="jLeftAnkle_roty" type="revolute">
        <origin xyz="0 0 0" rpy="0 0 0" />
        <parent link="LeftFoot_f1" />
        <child link="LeftFoot_f2" />
        <dynamics damping="0.1" friction="0.0" />
        <limit effort="30" velocity="1.0" lower="-0.523599" upper="0.872665" />
        <axis xyz="0 1 0" />
    </joint>
    <joint name="jLeftAnkle_rotz" type="revolute">
        <origin xyz="0 0 0" rpy="0 0 0" />
        <parent link="LeftFoot_f2" />
        <child link="LeftFoot" />
        <dynamics damping="0.1" friction="0.0" />
        <limit effort="30" velocity="1.0" lower="-0.872665" upper="0.436332" />
        <axis xyz="0 0 1" />
    </joint>
    <joint name="jLeftBallFoot_roty" type="revolute">
        <origin xyz="0.14456           0   -0.064752" rpy="0 0 0" />
        <parent link="LeftFoot" />
        <child link="LeftToe" />
        <dynamics damping="0.1" friction="0.0" />
        <limit effort="30" velocity="1.0" lower="-0.174533" upper="1.5708" />
        <axis xyz="0 1 0" />
    </joint>
    <!-- Sensor  1-->
    <sensor name="Pelvis_gyro" type="gyroscope">
        <parent link="Pelvis" />
        <origin xyz="-0.056756 -5.6944e-06    0.097055" rpy="-0.3247     0.95826      2.4984" />
    </sensor>
    <sensor name="Pelvis_accelerometer" type="accelerometer">
        <parent link="Pelvis" />
        <origin xyz="-0.056756 -5.6944e-06    0.097055" rpy="-0.3247     0.95826      2.4984" />
    </sensor>
    <!-- Sensor  2-->
    <sensor name="T8_gyro" type="gyroscope">
        <parent link="T8" />
        <origin xyz="0.1256  2.9265e-07    0.069079" rpy="0.054662      1.1921    0.026605" />
    </sensor>
    <sensor name="T8_accelerometer" type="accelerometer">
        <parent link="T8" />
        <origin xyz="0.1256  2.9265e-07    0.069079" rpy="0.054662      1.1921    0.026605" />
    </sensor>
    <!-- Sensor  3-->
    <sensor name="Head_gyro" type="gyroscope">
        <parent link="Head" />
        <origin xyz="-0.069574  4.0118e-07    0.076475" rpy="2.3602    0.029132     -1.6926" />
    </sensor>
    <sensor name="Head_accelerometer" type="accelerometer">
        <parent link="Head" />
        <origin xyz="-0.069574  4.0118e-07    0.076475" rpy="2.3602    0.029132     -1.6926" />
    </sensor>
    <!-- Sensor  4-->
    <sensor name="RightShoulder_gyro" type="gyroscope">
        <parent link="RightShoulder" />
        <origin xyz="-0.018859   -0.047148   -0.056578" rpy="1.3372    -0.28335     -1.4594" />
    </sensor>
    <sensor name="RightShoulder_accelerometer" type="accelerometer">
        <parent link="RightShoulder" />
        <origin xyz="-0.018859   -0.047148   -0.056578" rpy="1.3372    -0.28335     -1.4594" />
    </sensor>
    <!-- Sensor  5-->
    <sensor name="RightUpperArm_gyro" type="gyroscope">
        <parent link="RightUpperArm" />
        <origin xyz="-0.018123   -0.090613    0.018123" rpy="-0.15226    0.030142     -1.5884" />
    </sensor>
    <sensor name="RightUpperArm_accelerometer" type="accelerometer">
        <parent link="RightUpperArm" />
        <origin xyz="-0.018123   -0.090613    0.018123" rpy="-0.15226    0.030142     -1.5884" />
    </sensor>
    <!-- Sensor  6-->
    <sensor name="RightForeArm_gyro" type="gyroscope">
        <parent link="RightForeArm" />
        <origin xyz="0.0016793    -0.18323      0.0183" rpy="-1.1132    0.015024     -1.2543" />
    </sensor>
    <sensor name="RightForeArm_accelerometer" type="accelerometer">
        <parent link="RightForeArm" />
        <origin xyz="0.0016793    -0.18323      0.0183" rpy="-1.1132    0.015024     -1.2543" />
    </sensor>
    <!-- Sensor  7-->
    <sensor name="RightHand_gyro" type="gyroscope">
        <parent link="RightHand" />
        <origin xyz="-3.4565e-08   -0.050814    0.018478" rpy="-0.69083   -0.053849     -1.4329" />
    </sensor>
    <sensor name="RightHand_accelerometer" type="accelerometer">
        <parent link="RightHand" />
        <origin xyz="-3.4565e-08   -0.050814    0.018478" rpy="-0.69083   -0.053849     -1.4329" />
    </sensor>
    <!-- Sensor  8-->
    <sensor name="LeftShoulder_gyro" type="gyroscope">
        <parent link="LeftShoulder" />
        <origin xyz="-0.018859    0.047148   -0.056578" rpy="-1.1487    -0.34419      1.3655" />
    </sensor>
    <sensor name="LeftShoulder_accelerometer" type="accelerometer">
        <parent link="LeftShoulder" />
        <origin xyz="-0.018859    0.047148   -0.056578" rpy="-1.1487    -0.34419      1.3655" />
    </sensor>
    <!-- Sensor  9-->
    <sensor name="LeftUpperArm_gyro" type="gyroscope">
        <parent link="LeftUpperArm" />
        <origin xyz="-0.018123    0.090613    0.018123" rpy="0.094373   -0.042991      1.6861" />
    </sensor>
    <sensor name="LeftUpperArm_accelerometer" type="accelerometer">
        <parent link="LeftUpperArm" />
        <origin xyz="-0.018123    0.090613    0.018123" rpy="0.094373   -0.042991      1.6861" />
    </sensor>
    <!-- Sensor  10-->
    <sensor name="LeftForeArm_gyro" type="gyroscope">
        <parent link="LeftForeArm" />
        <origin xyz="0.0016791     0.18323    0.018301" rpy="0.90429     0.18107      1.1351" />
    </sensor>
    <sensor name="LeftForeArm_accelerometer" type="accelerometer">
        <parent link="LeftForeArm" />
        <origin xyz="0.0016791     0.18323    0.018301" rpy="0.90429     0.18107      1.1351" />
    </sensor>
    <!-- Sensor  11-->
    <sensor name="LeftHand_gyro" type="gyroscope">
        <parent link="LeftHand" />
        <origin xyz="1.1198e-08    0.050814    0.018478" rpy="1.2175   -0.077786      1.3837" />
    </sensor>
    <sensor name="LeftHand_accelerometer" type="accelerometer">
        <parent link="LeftHand" />
        <origin xyz="1.1198e-08    0.050814    0.018478" rpy="1.2175   -0.077786      1.3837" />
    </sensor>
    <!-- Sensor  12-->
    <sensor name="RightUpperLeg_gyro" type="gyroscope">
        <parent link="RightUpperLeg" />
        <origin xyz="0.012972    -0.04567    -0.26981" rpy="2.8247      1.4102      1.8304" />
    </sensor>
    <sensor name="RightUpperLeg_accelerometer" type="accelerometer">
        <parent link="RightUpperLeg" />
        <origin xyz="0.012972    -0.04567    -0.26981" rpy="2.8247      1.4102      1.8304" />
    </sensor>
    <!-- Sensor  13-->
    <sensor name="RightLowerLeg_gyro" type="gyroscope">
        <parent link="RightLowerLeg" />
        <origin xyz="0.030805   0.0070514    -0.13253" rpy="-2.9287      1.4733     -1.9582" />
    </sensor>
    <sensor name="RightLowerLeg_accelerometer" type="accelerometer">
        <parent link="RightLowerLeg" />
        <origin xyz="0.030805   0.0070514    -0.13253" rpy="-2.9287      1.4733     -1.9582" />
    </sensor>
    <!-- Sensor  14-->
    <sensor name="RightFoot_gyro" type="gyroscope">
        <parent link="RightFoot" />
        <origin xyz="0.083701   0.0013928   -0.011817" rpy="0.30301     0.49685    -0.19697" />
    </sensor>
    <sensor name="RightFoot_accelerometer" type="accelerometer">
        <parent link="RightFoot" />
        <origin xyz="0.083701   0.0013928   -0.011817" rpy="0.30301     0.49685    -0.19697" />
    </sensor>
    <!-- Sensor  15-->
    <sensor name="LeftUpperLeg_gyro" type="gyroscope">
        <parent link="LeftUpperLeg" />
        <origin xyz="0.012973     0.04567    -0.26981" rpy="-2.3214      1.4159     -1.1979" />
    </sensor>
    <sensor name="LeftUpperLeg_accelerometer" type="accelerometer">
        <parent link="LeftUpperLeg" />
        <origin xyz="0.012973     0.04567    -0.26981" rpy="-2.3214      1.4159     -1.1979" />
    </sensor>
    <!-- Sensor  16-->
    <sensor name="LeftLowerLeg_gyro" type="gyroscope">
        <parent link="LeftLowerLeg" />
        <origin xyz="0.030805  -0.0070515    -0.13253" rpy="-2.6156      1.3817      2.7867" />
    </sensor>
    <sensor name="LeftLowerLeg_accelerometer" type="accelerometer">
        <parent link="LeftLowerLeg" />
        <origin xyz="0.030805  -0.0070515    -0.13253" rpy="-2.6156      1.3817      2.7867" />
    </sensor>
    <!-- Sensor  17-->
    <sensor name="LeftFoot_gyro" type="gyroscope">
        <parent link="LeftFoot" />
        <origin xyz="0.083701  -0.0013929   -0.011817" rpy="-0.10862      0.4501     0.37976" />
    </sensor>
    <sensor name="LeftFoot_accelerometer" type="accelerometer">
        <parent link="LeftFoot" />
        <origin xyz="0.083701  -0.0013929   -0.011817" rpy="-0.10862      0.4501     0.37976" />
    </sensor>
    <transmission name="trans_jL5S1_rotx">
        <type>transmission_interface/SimpleTransmission</type>
        <joint name="jL5S1_rotx">
            <hardwareInterface>hardware_interface/EffortJointInterface</hardwareInterface>
        </joint>
        <actuator name="jL5S1_rotx_motor">
            <hardwareInterface>hardware_interface/EffortJointInterface</hardwareInterface>
            <mechanicalReduction>1</mechanicalReduction>
        </actuator>
    </transmission>
    <transmission name="trans_jL5S1_roty">
        <type>transmission_interface/SimpleTransmission</type>
        <joint name="jL5S1_roty">
            <hardwareInterface>hardware_interface/EffortJointInterface</hardwareInterface>
        </joint>
        <actuator name="jL5S1_roty_motor">
            <hardwareInterface>hardware_interface/EffortJointInterface</hardwareInterface>
            <mechanicalReduction>1</mechanicalReduction>
        </actuator>
    </transmission>
    <transmission name="trans_jL4L3_rotx">
        <type>transmission_interface/SimpleTransmission</type>
        <joint name="jL4L3_rotx">
            <hardwareInterface>hardware_interface/EffortJointInterface</hardwareInterface>
        </joint>
        <actuator name="jL4L3_rotx_motor">
            <hardwareInterface>hardware_interface/EffortJointInterface</hardwareInterface>
            <mechanicalReduction>1</mechanicalReduction>
        </actuator>
    </transmission>
    <transmission name="trans_jL4L3_roty">
        <type>transmission_interface/SimpleTransmission</type>
        <joint name="jL4L3_roty">
            <hardwareInterface>hardware_interface/EffortJointInterface</hardwareInterface>
        </joint>
        <actuator name="jL4L3_roty_motor">
            <hardwareInterface>hardware_interface/EffortJointInterface</hardwareInterface>
            <mechanicalReduction>1</mechanicalReduction>
        </actuator>
    </transmission>
    <transmission name="trans_jL1T12_rotx">
        <type>transmission_interface/SimpleTransmission</type>
        <joint name="jL1T12_rotx">
            <hardwareInterface>hardware_interface/EffortJointInterface</hardwareInterface>
        </joint>
        <actuator name="jL1T12_rotx_motor">
            <hardwareInterface>hardware_interface/EffortJointInterface</hardwareInterface>
            <mechanicalReduction>1</mechanicalReduction>
        </actuator>
    </transmission>
    <transmission name="trans_jL1T12_roty">
        <type>transmission_interface/SimpleTransmission</type>
        <joint name="jL1T12_roty">
            <hardwareInterface>hardware_interface/EffortJointInterface</hardwareInterface>
        </joint>
        <actuator name="jL1T12_roty_motor">
            <hardwareInterface>hardware_interface/EffortJointInterface</hardwareInterface>
            <mechanicalReduction>1</mechanicalReduction>
        </actuator>
    </transmission>
    <transmission name="trans_jT9T8_rotx">
        <type>transmission_interface/SimpleTransmission</type>
        <joint name="jT9T8_rotx">
            <hardwareInterface>hardware_interface/EffortJointInterface</hardwareInterface>
        </joint>
        <actuator name="jT9T8_rotx_motor">
            <hardwareInterface>hardware_interface/EffortJointInterface</hardwareInterface>
            <mechanicalReduction>1</mechanicalReduction>
        </actuator>
    </transmission>
    <transmission name="trans_jT9T8_roty">
        <type>transmission_interface/SimpleTransmission</type>
        <joint name="jT9T8_roty">
            <hardwareInterface>hardware_interface/EffortJointInterface</hardwareInterface>
        </joint>
        <actuator name="jT9T8_roty_motor">
            <hardwareInterface>hardware_interface/EffortJointInterface</hardwareInterface>
            <mechanicalReduction>1</mechanicalReduction>
        </actuator>
    </transmission>
    <transmission name="trans_jT9T8_rotz">
        <type>transmission_interface/SimpleTransmission</type>
        <joint name="jT9T8_rotz">
            <hardwareInterface>hardware_interface/EffortJointInterface</hardwareInterface>
        </joint>
        <actuator name="jT9T8_rotz_motor">
            <hardwareInterface>hardware_interface/EffortJointInterface</hardwareInterface>
            <mechanicalReduction>1</mechanicalReduction>
        </actuator>
    </transmission>
    <transmission name="trans_jT1C7_rotx">
        <type>transmission_interface/SimpleTransmission</type>
        <joint name="jT1C7_rotx">
            <hardwareInterface>hardware_interface/EffortJointInterface</hardwareInterface>
        </joint>
        <actuator name="jT1C7_rotx_motor">
            <hardwareInterface>hardware_interface/EffortJointInterface</hardwareInterface>
            <mechanicalReduction>1</mechanicalReduction>
        </actuator>
    </transmission>
    <transmission name="trans_jT1C7_roty">
        <type>transmission_interface/SimpleTransmission</type>
        <joint name="jT1C7_roty">
            <hardwareInterface>hardware_interface/EffortJointInterface</hardwareInterface>
        </joint>
        <actuator name="jT1C7_roty_motor">
            <hardwareInterface>hardware_interface/EffortJointInterface</hardwareInterface>
            <mechanicalReduction>1</mechanicalReduction>
        </actuator>
    </transmission>
    <transmission name="trans_jT1C7_rotz">
        <type>transmission_interface/SimpleTransmission</type>
        <joint name="jT1C7_rotz">
            <hardwareInterface>hardware_interface/EffortJointInterface</hardwareInterface>
        </joint>
        <actuator name="jT1C7_rotz_motor">
            <hardwareInterface>hardware_interface/EffortJointInterface</hardwareInterface>
            <mechanicalReduction>1</mechanicalReduction>
        </actuator>
    </transmission>
    <transmission name="trans_jC1Head_rotx">
        <type>transmission_interface/SimpleTransmission</type>
        <joint name="jC1Head_rotx">
            <hardwareInterface>hardware_interface/EffortJointInterface</hardwareInterface>
        </joint>
        <actuator name="jC1Head_rotx_motor">
            <hardwareInterface>hardware_interface/EffortJointInterface</hardwareInterface>
            <mechanicalReduction>1</mechanicalReduction>
        </actuator>
    </transmission>
    <transmission name="trans_jC1Head_roty">
        <type>transmission_interface/SimpleTransmission</type>
        <joint name="jC1Head_roty">
            <hardwareInterface>hardware_interface/EffortJointInterface</hardwareInterface>
        </joint>
        <actuator name="jC1Head_roty_motor">
            <hardwareInterface>hardware_interface/EffortJointInterface</hardwareInterface>
            <mechanicalReduction>1</mechanicalReduction>
        </actuator>
    </transmission>
    <transmission name="trans_jRightC7Shoulder_rotx">
        <type>transmission_interface/SimpleTransmission</type>
        <joint name="jRightC7Shoulder_rotx">
            <hardwareInterface>hardware_interface/EffortJointInterface</hardwareInterface>
        </joint>
        <actuator name="jRightC7Shoulder_rotx_motor">
            <hardwareInterface>hardware_interface/EffortJointInterface</hardwareInterface>
            <mechanicalReduction>1</mechanicalReduction>
        </actuator>
    </transmission>
    <transmission name="trans_jRightShoulder_rotx">
        <type>transmission_interface/SimpleTransmission</type>
        <joint name="jRightShoulder_rotx">
            <hardwareInterface>hardware_interface/EffortJointInterface</hardwareInterface>
        </joint>
        <actuator name="jRightShoulder_rotx_motor">
            <hardwareInterface>hardware_interface/EffortJointInterface</hardwareInterface>
            <mechanicalReduction>1</mechanicalReduction>
        </actuator>
    </transmission>
    <transmission name="trans_jRightShoulder_roty">
        <type>transmission_interface/SimpleTransmission</type>
        <joint name="jRightShoulder_roty">
            <hardwareInterface>hardware_interface/EffortJointInterface</hardwareInterface>
        </joint>
        <actuator name="jRightShoulder_roty_motor">
            <hardwareInterface>hardware_interface/EffortJointInterface</hardwareInterface>
            <mechanicalReduction>1</mechanicalReduction>
        </actuator>
    </transmission>
    <transmission name="trans_jRightShoulder_rotz">
        <type>transmission_interface/SimpleTransmission</type>
        <joint name="jRightShoulder_rotz">
            <hardwareInterface>hardware_interface/EffortJointInterface</hardwareInterface>
        </joint>
        <actuator name="jRightShoulder_rotz_motor">
            <hardwareInterface>hardware_interface/EffortJointInterface</hardwareInterface>
            <mechanicalReduction>1</mechanicalReduction>
        </actuator>
    </transmission>
    <transmission name="trans_jRightElbow_roty">
        <type>transmission_interface/SimpleTransmission</type>
        <joint name="jRightElbow_roty">
            <hardwareInterface>hardware_interface/EffortJointInterface</hardwareInterface>
        </joint>
        <actuator name="jRightElbow_roty_motor">
            <hardwareInterface>hardware_interface/EffortJointInterface</hardwareInterface>
            <mechanicalReduction>1</mechanicalReduction>
        </actuator>
    </transmission>
    <transmission name="trans_jRightElbow_rotz">
        <type>transmission_interface/SimpleTransmission</type>
        <joint name="jRightElbow_rotz">
            <hardwareInterface>hardware_interface/EffortJointInterface</hardwareInterface>
        </joint>
        <actuator name="jRightElbow_rotz_motor">
            <hardwareInterface>hardware_interface/EffortJointInterface</hardwareInterface>
            <mechanicalReduction>1</mechanicalReduction>
        </actuator>
    </transmission>
    <transmission name="trans_jRightWrist_rotx">
        <type>transmission_interface/SimpleTransmission</type>
        <joint name="jRightWrist_rotx">
            <hardwareInterface>hardware_interface/EffortJointInterface</hardwareInterface>
        </joint>
        <actuator name="jRightWrist_rotx_motor">
            <hardwareInterface>hardware_interface/EffortJointInterface</hardwareInterface>
            <mechanicalReduction>1</mechanicalReduction>
        </actuator>
    </transmission>
    <transmission name="trans_jRightWrist_rotz">
        <type>transmission_interface/SimpleTransmission</type>
        <joint name="jRightWrist_rotz">
            <hardwareInterface>hardware_interface/EffortJointInterface</hardwareInterface>
        </joint>
        <actuator name="jRightWrist_rotz_motor">
            <hardwareInterface>hardware_interface/EffortJointInterface</hardwareInterface>
            <mechanicalReduction>1</mechanicalReduction>
        </actuator>
    </transmission>
    <transmission name="trans_jLeftC7Shoulder_rotx">
        <type>transmission_interface/SimpleTransmission</type>
        <joint name="jLeftC7Shoulder_rotx">
            <hardwareInterface>hardware_interface/PositionJointInterface</hardwareInterface>
        </joint>
        <actuator name="jLeftC7Shoulder_rotx_motor">
            <hardwareInterface>hardware_interface/PositionJointInterface</hardwareInterface>
            <mechanicalReduction>1</mechanicalReduction>
        </actuator>
    </transmission>
    <transmission name="trans_jLeftShoulder_rotx">
        <type>transmission_interface/SimpleTransmission</type>
        <joint name="jLeftShoulder_rotx">
            <hardwareInterface>hardware_interface/PositionJointInterface</hardwareInterface>
        </joint>
        <actuator name="jLeftShoulder_rotx_motor">
            <hardwareInterface>hardware_interface/PositionJointInterface</hardwareInterface>
            <mechanicalReduction>1</mechanicalReduction>
        </actuator>
    </transmission>
    <transmission name="trans_jLeftShoulder_roty">
        <type>transmission_interface/SimpleTransmission</type>
        <joint name="jLeftShoulder_roty">
            <hardwareInterface>hardware_interface/PositionJointInterface</hardwareInterface>
        </joint>
        <actuator name="jLeftShoulder_roty_motor">
            <hardwareInterface>hardware_interface/PositionJointInterface</hardwareInterface>
            <mechanicalReduction>1</mechanicalReduction>
        </actuator>
    </transmission>
    <transmission name="trans_jLeftShoulder_rotz">
        <type>transmission_interface/SimpleTransmission</type>
        <joint name="jLeftShoulder_rotz">
            <hardwareInterface>hardware_interface/PositionJointInterface</hardwareInterface>
        </joint>
        <actuator name="jLeftShoulder_rotz_motor">
            <hardwareInterface>hardware_interface/PositionJointInterface</hardwareInterface>
            <mechanicalReduction>1</mechanicalReduction>
        </actuator>
    </transmission>
    <transmission name="trans_jLeftElbow_roty">
        <type>transmission_interface/SimpleTransmission</type>
        <joint name="jLeftElbow_roty">
            <hardwareInterface>hardware_interface/PositionJointInterface</hardwareInterface>
        </joint>
        <actuator name="jLeftElbow_roty_motor">
            <hardwareInterface>hardware_interface/PositionJointInterface</hardwareInterface>
            <mechanicalReduction>1</mechanicalReduction>
        </actuator>
    </transmission>
    <transmission name="trans_jLeftElbow_rotz">
        <type>transmission_interface/SimpleTransmission</type>
        <joint name="jLeftElbow_rotz">
            <hardwareInterface>hardware_interface/PositionJointInterface</hardwareInterface>
        </joint>
        <actuator name="jLeftElbow_rotz_motor">
            <hardwareInterface>hardware_interface/PositionJointInterface</hardwareInterface>
            <mechanicalReduction>1</mechanicalReduction>
        </actuator>
    </transmission>
    <transmission name="trans_jLeftWrist_rotx">
        <type>transmission_interface/SimpleTransmission</type>
        <joint name="jLeftWrist_rotx">
            <hardwareInterface>hardware_interface/PositionJointInterface</hardwareInterface>
        </joint>
        <actuator name="jLeftWrist_rotx_motor">
            <hardwareInterface>hardware_interface/PositionJointInterface</hardwareInterface>
            <mechanicalReduction>1</mechanicalReduction>
        </actuator>
    </transmission>
    <transmission name="trans_jLeftWrist_rotz">
        <type>transmission_interface/SimpleTransmission</type>
        <joint name="jLeftWrist_rotz">
            <hardwareInterface>hardware_interface/PositionJointInterface</hardwareInterface>
        </joint>
        <actuator name="jLeftWrist_rotz_motor">
            <hardwareInterface>hardware_interface/PositionJointInterface</hardwareInterface>
            <mechanicalReduction>1</mechanicalReduction>
        </actuator>
    </transmission>
    <transmission name="trans_jRightHip_rotx">
        <type>transmission_interface/SimpleTransmission</type>
        <joint name="jRightHip_rotx">
            <hardwareInterface>hardware_interface/EffortJointInterface</hardwareInterface>
        </joint>
        <actuator name="jRightHip_rotx_motor">
            <hardwareInterface>hardware_interface/EffortJointInterface</hardwareInterface>
            <mechanicalReduction>1</mechanicalReduction>
        </actuator>
    </transmission>
    <transmission name="trans_jRightHip_roty">
        <type>transmission_interface/SimpleTransmission</type>
        <joint name="jRightHip_roty">
            <hardwareInterface>hardware_interface/EffortJointInterface</hardwareInterface>
        </joint>
        <actuator name="jRightHip_roty_motor">
            <hardwareInterface>hardware_interface/EffortJointInterface</hardwareInterface>
            <mechanicalReduction>1</mechanicalReduction>
        </actuator>
    </transmission>
    <transmission name="trans_jRightHip_rotz">
        <type>transmission_interface/SimpleTransmission</type>
        <joint name="jRightHip_rotz">
            <hardwareInterface>hardware_interface/EffortJointInterface</hardwareInterface>
        </joint>
        <actuator name="jRightHip_rotz_motor">
            <hardwareInterface>hardware_interface/EffortJointInterface</hardwareInterface>
            <mechanicalReduction>1</mechanicalReduction>
        </actuator>
    </transmission>
    <transmission name="trans_jRightKnee_roty">
        <type>transmission_interface/SimpleTransmission</type>
        <joint name="jRightKnee_roty">
            <hardwareInterface>hardware_interface/EffortJointInterface</hardwareInterface>
        </joint>
        <actuator name="jRightKnee_roty_motor">
            <hardwareInterface>hardware_interface/EffortJointInterface</hardwareInterface>
            <mechanicalReduction>1</mechanicalReduction>
        </actuator>
    </transmission>
    <transmission name="trans_jRightKnee_rotz">
        <type>transmission_interface/SimpleTransmission</type>
        <joint name="jRightKnee_rotz">
            <hardwareInterface>hardware_interface/EffortJointInterface</hardwareInterface>
        </joint>
        <actuator name="jRightKnee_rotz_motor">
            <hardwareInterface>hardware_interface/EffortJointInterface</hardwareInterface>
            <mechanicalReduction>1</mechanicalReduction>
        </actuator>
    </transmission>
    <transmission name="trans_jRightAnkle_rotx">
        <type>transmission_interface/SimpleTransmission</type>
        <joint name="jRightAnkle_rotx">
            <hardwareInterface>hardware_interface/EffortJointInterface</hardwareInterface>
        </joint>
        <actuator name="jRightAnkle_rotx_motor">
            <hardwareInterface>hardware_interface/EffortJointInterface</hardwareInterface>
            <mechanicalReduction>1</mechanicalReduction>
        </actuator>
    </transmission>
    <transmission name="trans_jRightAnkle_roty">
        <type>transmission_interface/SimpleTransmission</type>
        <joint name="jRightAnkle_roty">
            <hardwareInterface>hardware_interface/EffortJointInterface</hardwareInterface>
        </joint>
        <actuator name="jRightAnkle_roty_motor">
            <hardwareInterface>hardware_interface/EffortJointInterface</hardwareInterface>
            <mechanicalReduction>1</mechanicalReduction>
        </actuator>
    </transmission>
    <transmission name="trans_jRightAnkle_rotz">
        <type>transmission_interface/SimpleTransmission</type>
        <joint name="jRightAnkle_rotz">
            <hardwareInterface>hardware_interface/EffortJointInterface</hardwareInterface>
        </joint>
        <actuator name="jRightAnkle_rotz_motor">
            <hardwareInterface>hardware_interface/EffortJointInterface</hardwareInterface>
            <mechanicalReduction>1</mechanicalReduction>
        </actuator>
    </transmission>
    <transmission name="trans_jRightBallFoot_roty">
        <type>transmission_interface/SimpleTransmission</type>
        <joint name="jRightBallFoot_roty">
            <hardwareInterface>hardware_interface/EffortJointInterface</hardwareInterface>
        </joint>
        <actuator name="jRightBallFoot_roty_motor">
            <hardwareInterface>hardware_interface/EffortJointInterface</hardwareInterface>
            <mechanicalReduction>1</mechanicalReduction>
        </actuator>
    </transmission>
    <transmission name="trans_jLeftHip_rotx">
        <type>transmission_interface/SimpleTransmission</type>
        <joint name="jLeftHip_rotx">
            <hardwareInterface>hardware_interface/EffortJointInterface</hardwareInterface>
        </joint>
        <actuator name="jLeftHip_rotx_motor">
            <hardwareInterface>hardware_interface/EffortJointInterface</hardwareInterface>
            <mechanicalReduction>1</mechanicalReduction>
        </actuator>
    </transmission>
    <transmission name="trans_jLeftHip_roty">
        <type>transmission_interface/SimpleTransmission</type>
        <joint name="jLeftHip_roty">
            <hardwareInterface>hardware_interface/EffortJointInterface</hardwareInterface>
        </joint>
        <actuator name="jLeftHip_roty_motor">
            <hardwareInterface>hardware_interface/EffortJointInterface</hardwareInterface>
            <mechanicalReduction>1</mechanicalReduction>
        </actuator>
    </transmission>
    <transmission name="trans_jLeftHip_rotz">
        <type>transmission_interface/SimpleTransmission</type>
        <joint name="jLeftHip_rotz">
            <hardwareInterface>hardware_interface/EffortJointInterface</hardwareInterface>
        </joint>
        <actuator name="jLeftHip_rotz_motor">
            <hardwareInterface>hardware_interface/EffortJointInterface</hardwareInterface>
            <mechanicalReduction>1</mechanicalReduction>
        </actuator>
    </transmission>
    <transmission name="trans_jLeftKnee_roty">
        <type>transmission_interface/SimpleTransmission</type>
        <joint name="jLeftKnee_roty">
            <hardwareInterface>hardware_interface/EffortJointInterface</hardwareInterface>
        </joint>
        <actuator name="jLeftKnee_roty_motor">
            <hardwareInterface>hardware_interface/EffortJointInterface</hardwareInterface>
            <mechanicalReduction>1</mechanicalReduction>
        </actuator>
    </transmission>
    <transmission name="trans_jLeftKnee_rotz">
        <type>transmission_interface/SimpleTransmission</type>
        <joint name="jLeftKnee_rotz">
            <hardwareInterface>hardware_interface/EffortJointInterface</hardwareInterface>
        </joint>
        <actuator name="jLeftKnee_rotz_motor">
            <hardwareInterface>hardware_interface/EffortJointInterface</hardwareInterface>
            <mechanicalReduction>1</mechanicalReduction>
        </actuator>
    </transmission>
    <transmission name="trans_jLeftAnkle_rotx">
        <type>transmission_interface/SimpleTransmission</type>
        <joint name="jLeftAnkle_rotx">
            <hardwareInterface>hardware_interface/EffortJointInterface</hardwareInterface>
        </joint>
        <actuator name="jLeftAnkle_rotx_motor">
            <hardwareInterface>hardware_interface/EffortJointInterface</hardwareInterface>
            <mechanicalReduction>1</mechanicalReduction>
        </actuator>
    </transmission>
    <transmission name="trans_jLeftAnkle_roty">
        <type>transmission_interface/SimpleTransmission</type>
        <joint name="jLeftAnkle_roty">
            <hardwareInterface>hardware_interface/EffortJointInterface</hardwareInterface>
        </joint>
        <actuator name="jLeftAnkle_roty_motor">
            <hardwareInterface>hardware_interface/EffortJointInterface</hardwareInterface>
            <mechanicalReduction>1</mechanicalReduction>
        </actuator>
    </transmission>
    <transmission name="trans_jLeftAnkle_rotz">
        <type>transmission_interface/SimpleTransmission</type>
        <joint name="jLeftAnkle_rotz">
            <hardwareInterface>hardware_interface/EffortJointInterface</hardwareInterface>
        </joint>
        <actuator name="jLeftAnkle_rotz_motor">
            <hardwareInterface>hardware_interface/EffortJointInterface</hardwareInterface>
            <mechanicalReduction>1</mechanicalReduction>
        </actuator>
    </transmission>
    <transmission name="trans_jLeftBallFoot_roty">
        <type>transmission_interface/SimpleTransmission</type>
        <joint name="jLeftBallFoot_roty">
            <hardwareInterface>hardware_interface/EffortJointInterface</hardwareInterface>
        </joint>
        <actuator name="jLeftBallFoot_roty_motor">
            <hardwareInterface>hardware_interface/EffortJointInterface</hardwareInterface>
            <mechanicalReduction>1</mechanicalReduction>
        </actuator>
    </transmission>
    <!-- <gazebo>
        <plugin name="gazebo_ros_control">
            <robotNamespace>/</robotNamespace>
        </plugin>
    </gazebo> -->
    <gazebo>
        <plugin name="gazebo_ros_control" filename="libgazebo_ros_control.so">
            <robotNamespace>/human_gazebo</robotNamespace>
            <robotSimType>gazebo_ros_control/DefaultRobotHWSim</robotSimType>
            <legacyModeNS>true</legacyModeNS>
        </plugin>
        <!-- <plugin name="gazebo_ros_control">
            <robotNamespace>/</robotNamespace>
        </plugin> -->
    </gazebo>
</robot>
